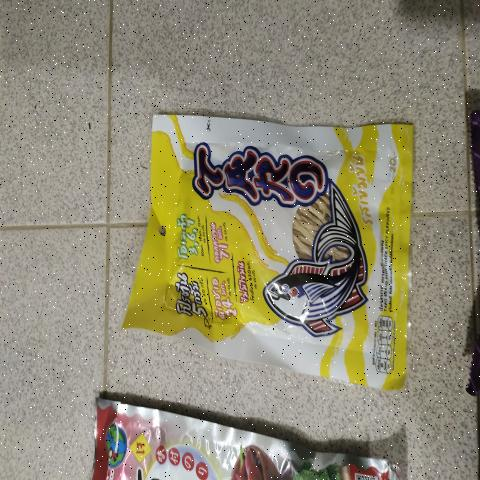taro_yellow: (156, 113, 401, 373)
